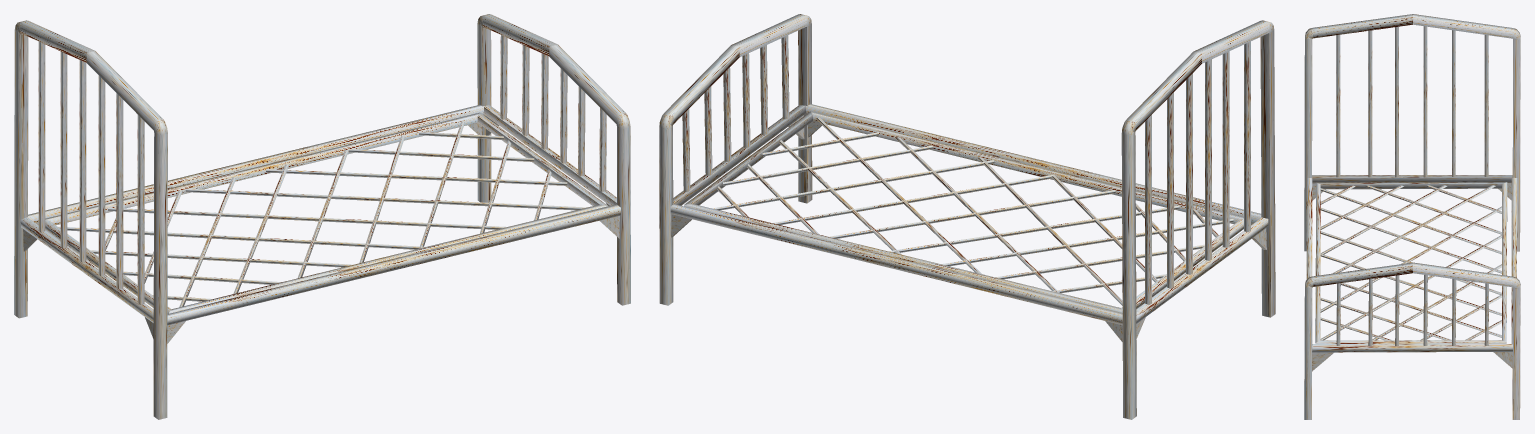
The model's file is KROVAT.fbx.
3 renders of one model, left to right at view 1: azimuth 30°, elevation 25°; view 2: azimuth 150°, elevation 25°; view 3: azimuth 270°, elevation 25°, orthographic. The views are drawn at different scales.
Parts seen in each view (by area): view 1: KROVAT; view 2: KROVAT; view 3: KROVAT.
Part boxes in pixels (left/top/right/bottom): KROVAT: left=14, top=14, right=630, bottom=419; KROVAT: left=659, top=14, right=1275, bottom=419; KROVAT: left=1304, top=14, right=1520, bottom=419.
Bounding box in the file's own units: 830 × 527 × 440.
Materials: 1 (1 with a texture image).
